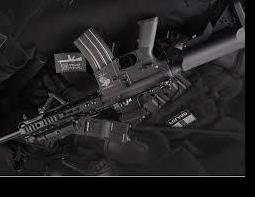larga: (0, 1, 246, 144)
